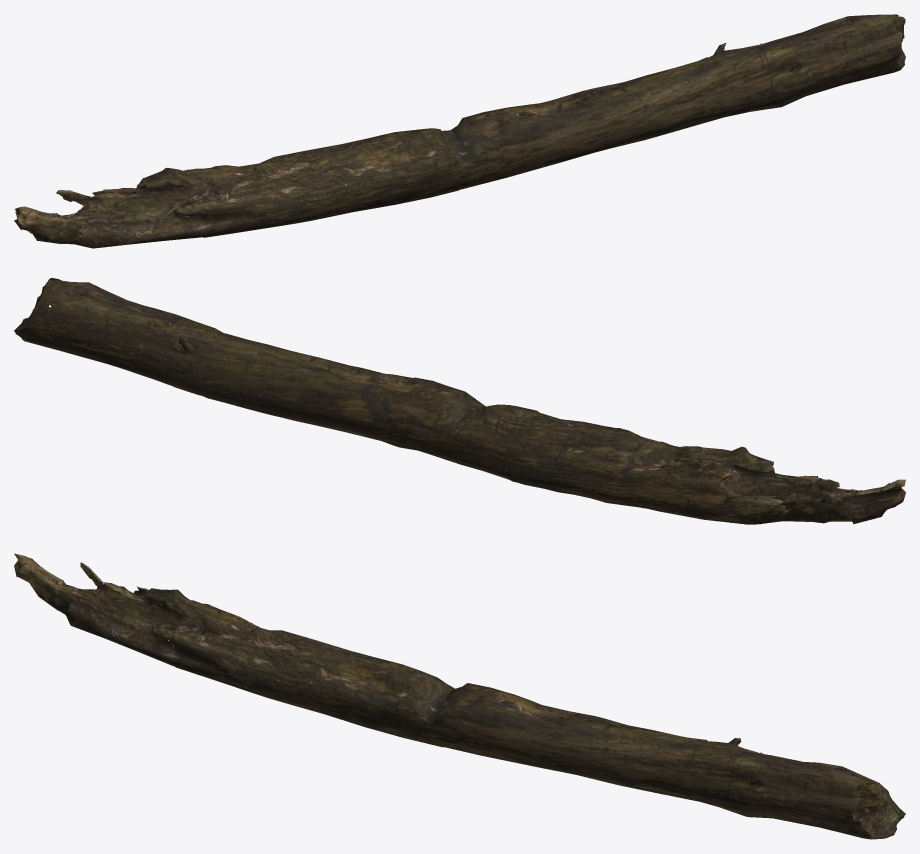
Rendered from forest_log.glb.
The picture shows the model from 3 angles, top to bottom: view 1: azimuth 30°, elevation 25°; view 2: azimuth 150°, elevation 25°; view 3: azimuth 330°, elevation 25°; orthographic projection.
Parts seen in each view (by area): view 1: dead_tree_trunk; view 2: dead_tree_trunk; view 3: dead_tree_trunk.
Part boxes in pixels (bbox=[...]): dead_tree_trunk: bbox=[14, 14, 905, 248]; dead_tree_trunk: bbox=[14, 278, 905, 524]; dead_tree_trunk: bbox=[14, 553, 905, 839].
Size of the model in its own units: 3.05 by 0.2882 by 0.2736.
Materials: 1 (1 with a texture image).
